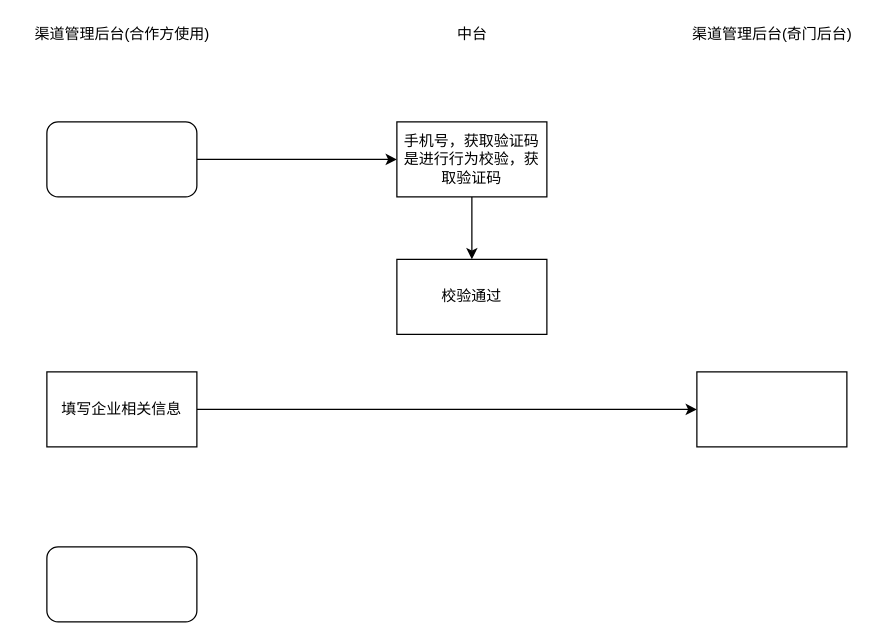
This 880x644 diagram has some shape labels left out. The shapes that lost their labels are listed below. From the top down, each one's centre as x and y in pixels, then its label:
At point 121,159: "商户账号注册".
At point 771,409: "提交平台审核".
